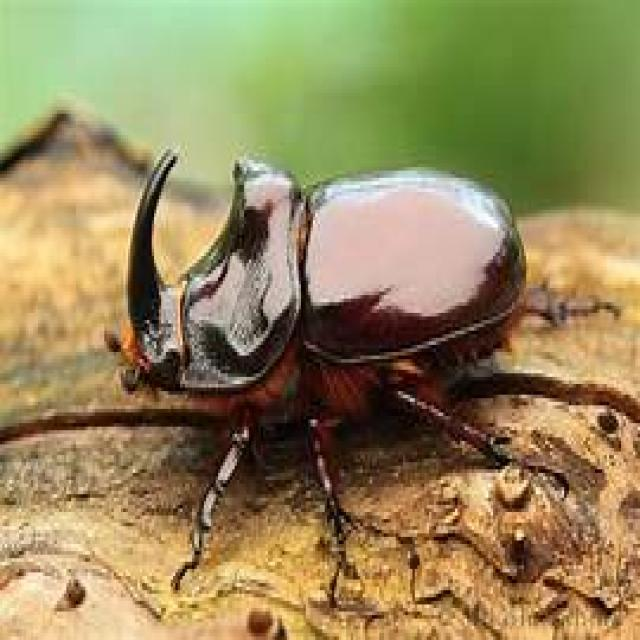Rhino-beetle: (93, 126, 568, 541)
